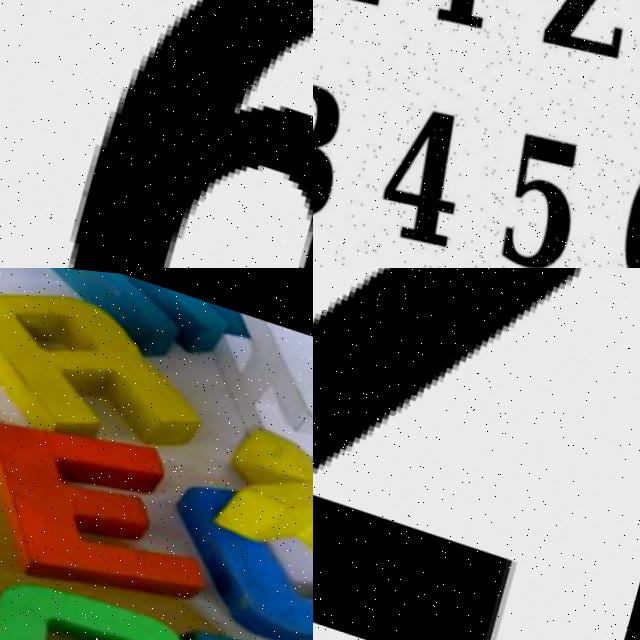3: (313, 38, 375, 239)
4: (356, 80, 495, 268)
5: (471, 100, 606, 268)
6: (27, 0, 313, 268), (588, 95, 640, 268)
C: (0, 553, 225, 640)
E: (0, 372, 251, 615)
R: (0, 268, 219, 463)
X: (219, 414, 313, 572)
Z: (313, 268, 623, 640)
